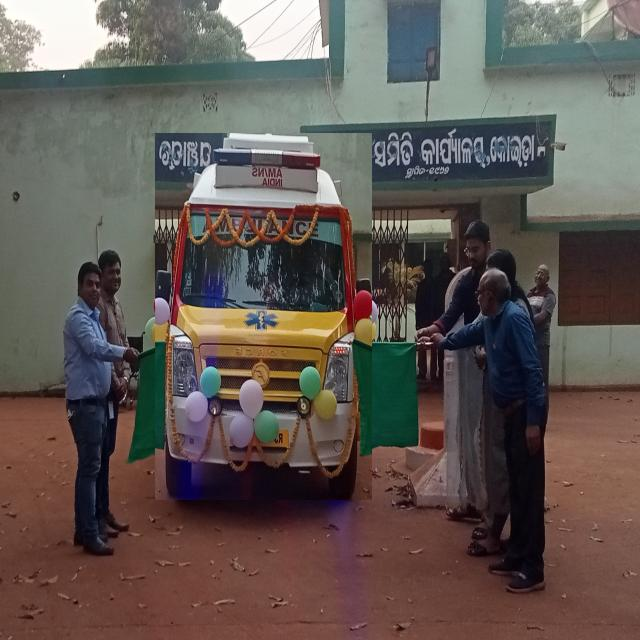emergency: (155, 134, 372, 500)
